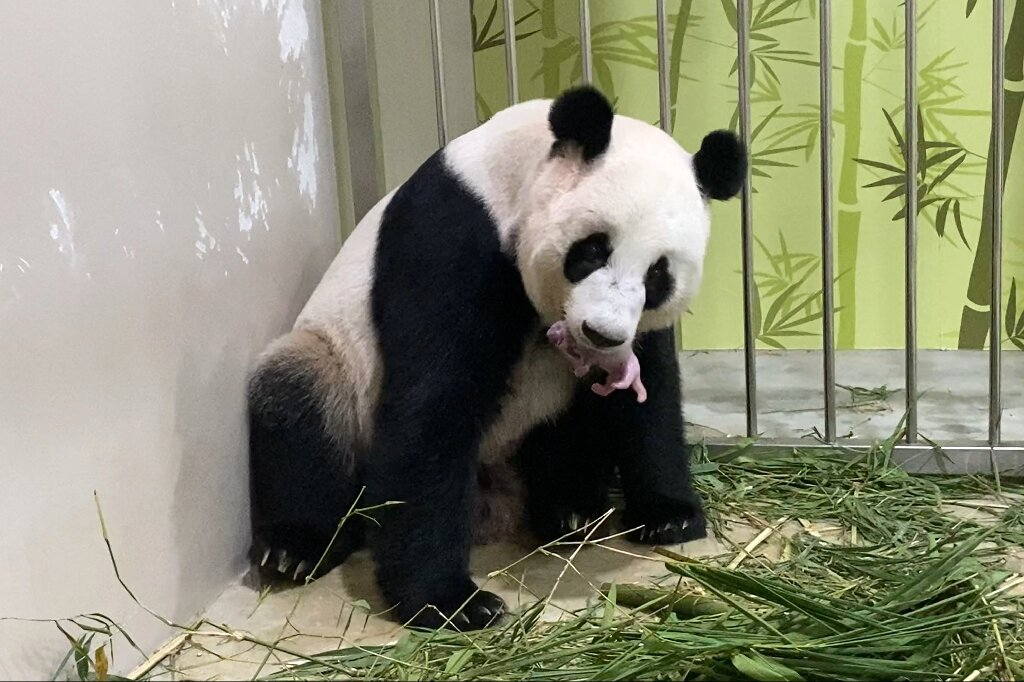panda: (158, 49, 813, 583)
